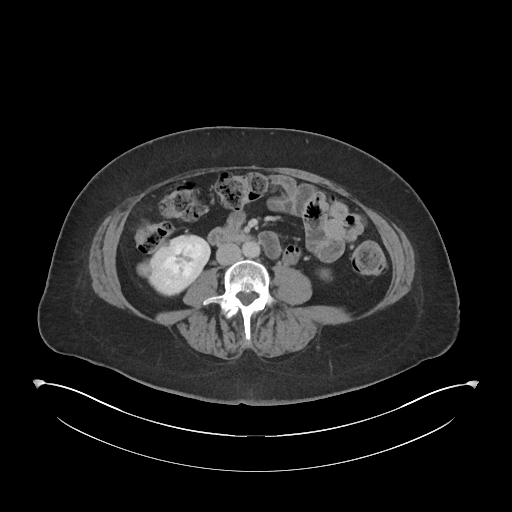Lesion: (133, 259, 153, 282)
